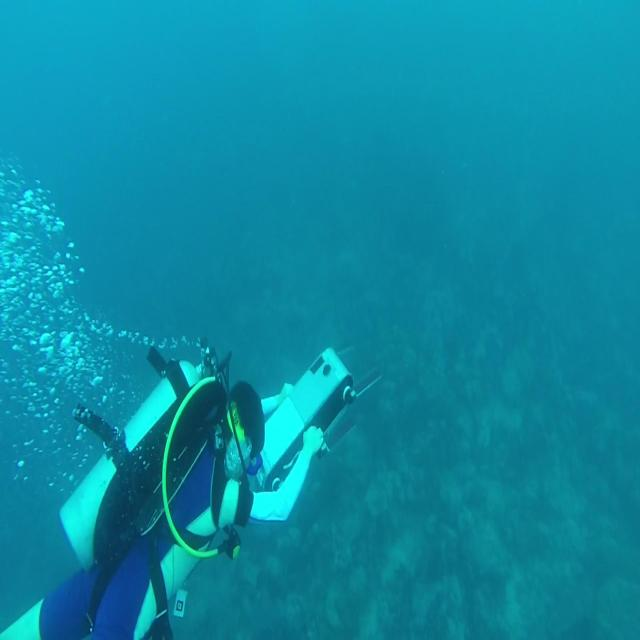human: (1, 338, 381, 638)
